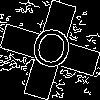O: (25, 25, 76, 80)
